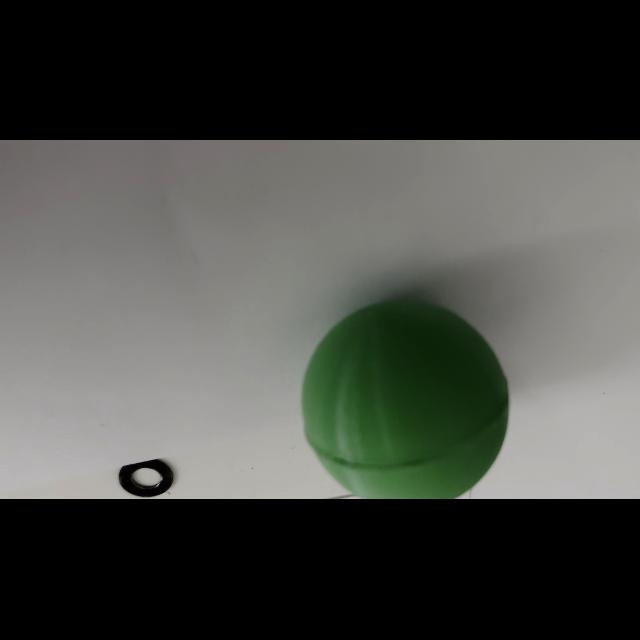objects: (293, 294, 515, 501)
